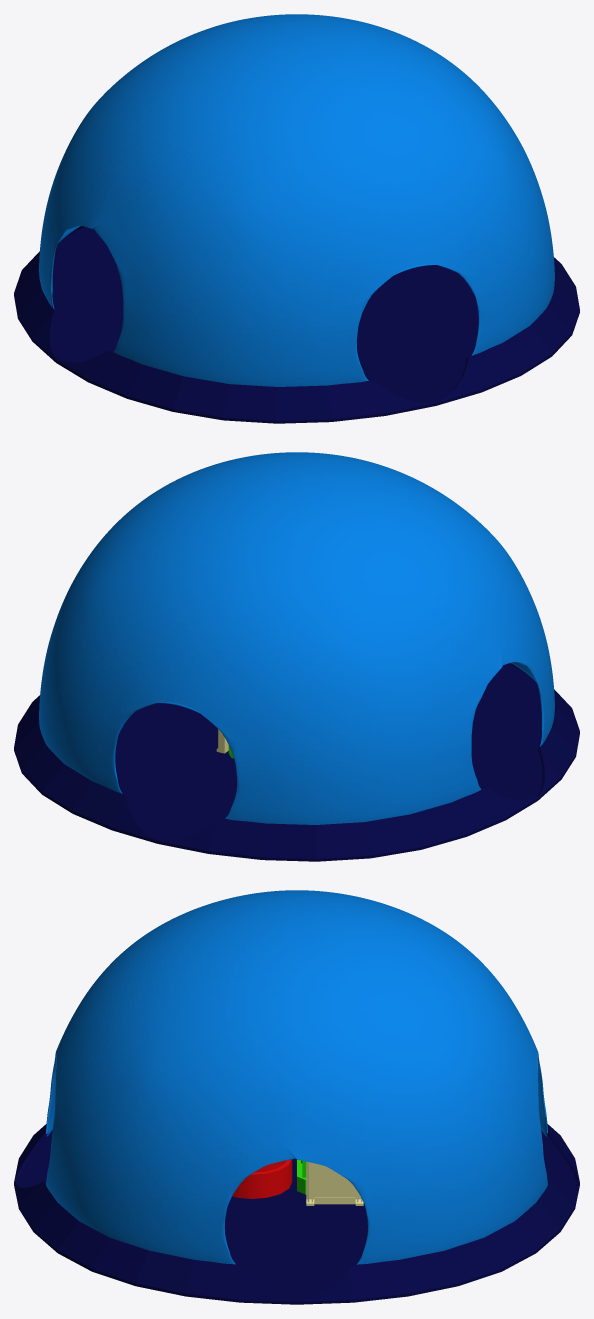
File: DOME_FORNO.fbx
3 views of the same model, one above another, from view 1: azimuth 30°, elevation 25°; view 2: azimuth 150°, elevation 25°; view 3: azimuth 270°, elevation 25° (orthographic).
Visible parts, largest first — view 1: Cube.004; view 2: Cube.004; view 3: Cube.004, computer_station, Cylinder_16_extended.
Part boxes in pixels (left/top/right/bottom): Cube.004: left=14, top=14, right=579, bottom=423; Cube.004: left=14, top=452, right=579, bottom=861; Cube.004: left=14, top=890, right=579, bottom=1304; computer_station: left=306, top=1161, right=363, bottom=1205; Cylinder_16_extended: left=232, top=1159, right=292, bottom=1198.
Bounding box in the file's own units: 1409 × 733 × 1409.
